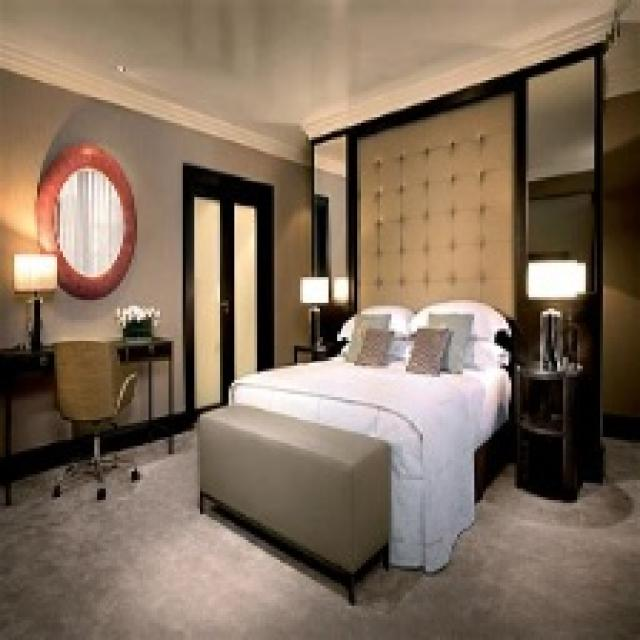Bed: (226, 300, 514, 574)
